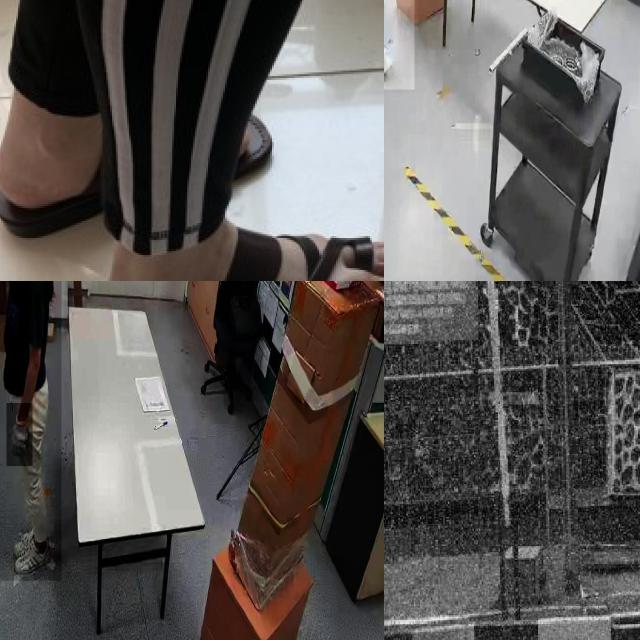Sandals: (80, 216, 384, 281)
hand_glove: (7, 403, 33, 467)
person: (0, 281, 62, 581)
shoes: (13, 540, 51, 578), (384, 44, 398, 85)
